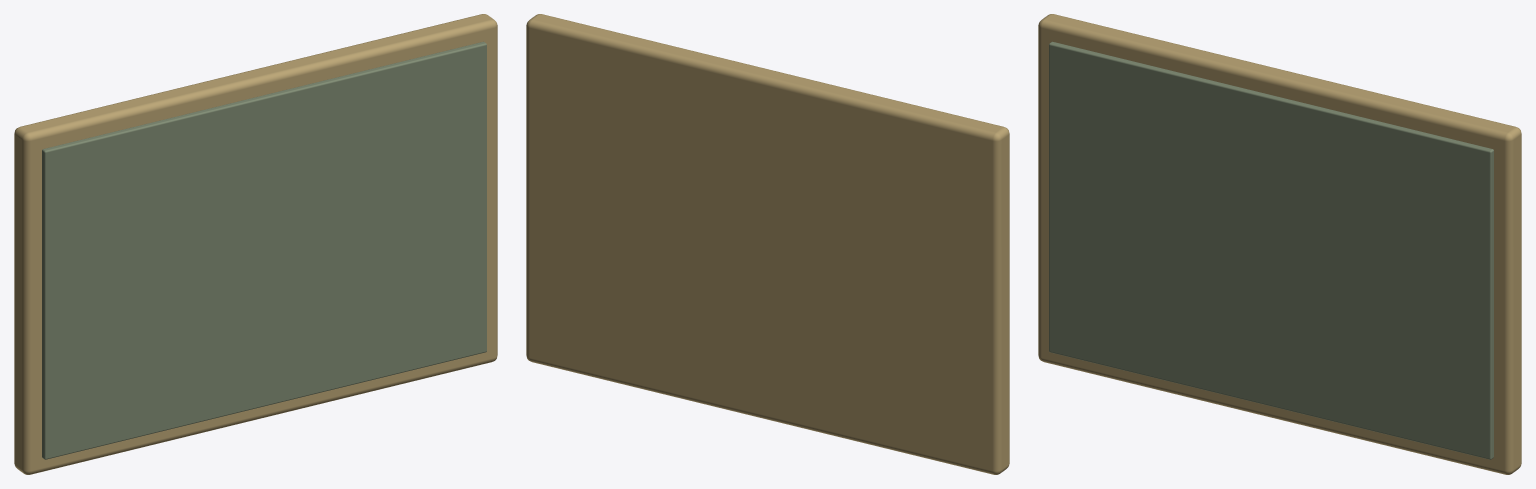
Rendered from frame.glb.
3 renders of one model, left to right at view 1: azimuth 30°, elevation 25°; view 2: azimuth 150°, elevation 25°; view 3: azimuth 330°, elevation 25°, orthographic.
Parts seen in each view (by area): view 1: photo, frame; view 2: frame; view 3: photo, frame.
Part boxes in pixels (x1,y1,x2,y2): photo: (42, 41, 486, 459); frame: (14, 14, 497, 474); frame: (526, 14, 1009, 474); photo: (1049, 41, 1493, 459); frame: (1038, 14, 1521, 474).
Bounding box in the file's own units: 0.9 × 0.62 × 0.0565.
